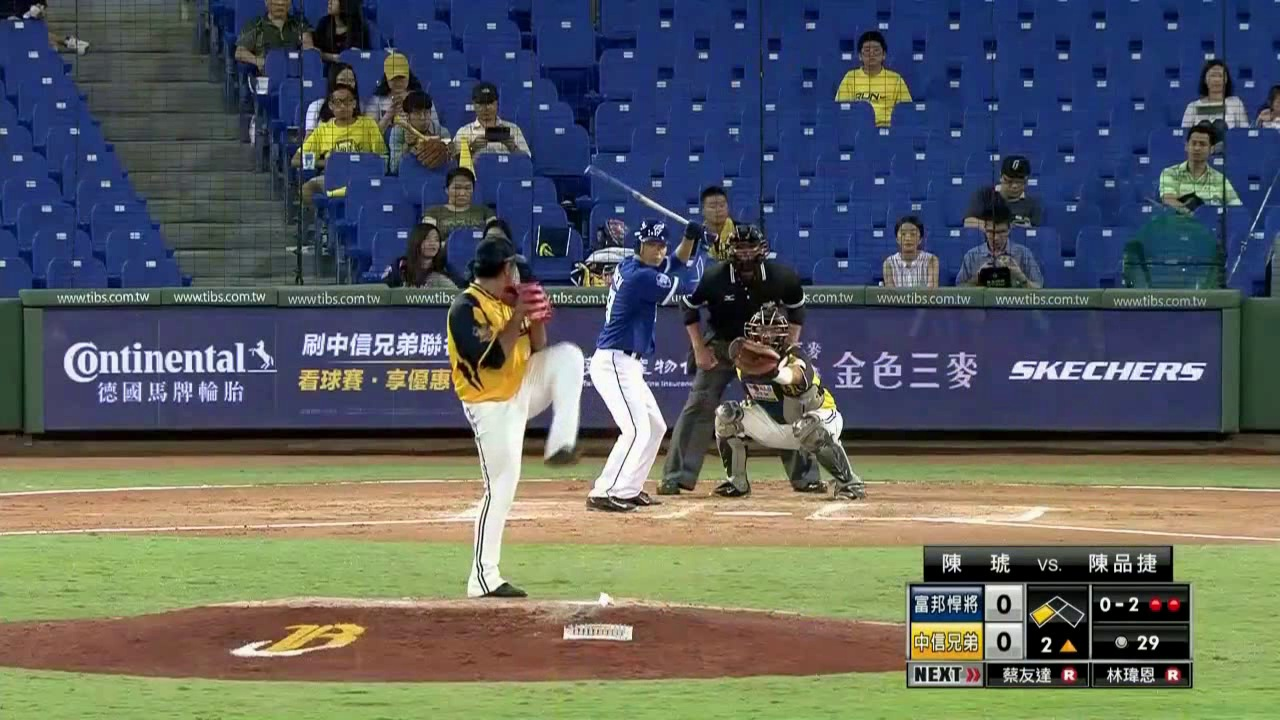base: (1027, 590, 1087, 628)
bat: (577, 160, 696, 228)
out: (1145, 588, 1186, 616)
score1: (985, 587, 1023, 620)
score2: (987, 625, 1021, 655)
session: (1028, 634, 1092, 657)
strikeball: (1092, 588, 1142, 617)
total: (1094, 630, 1187, 659)
